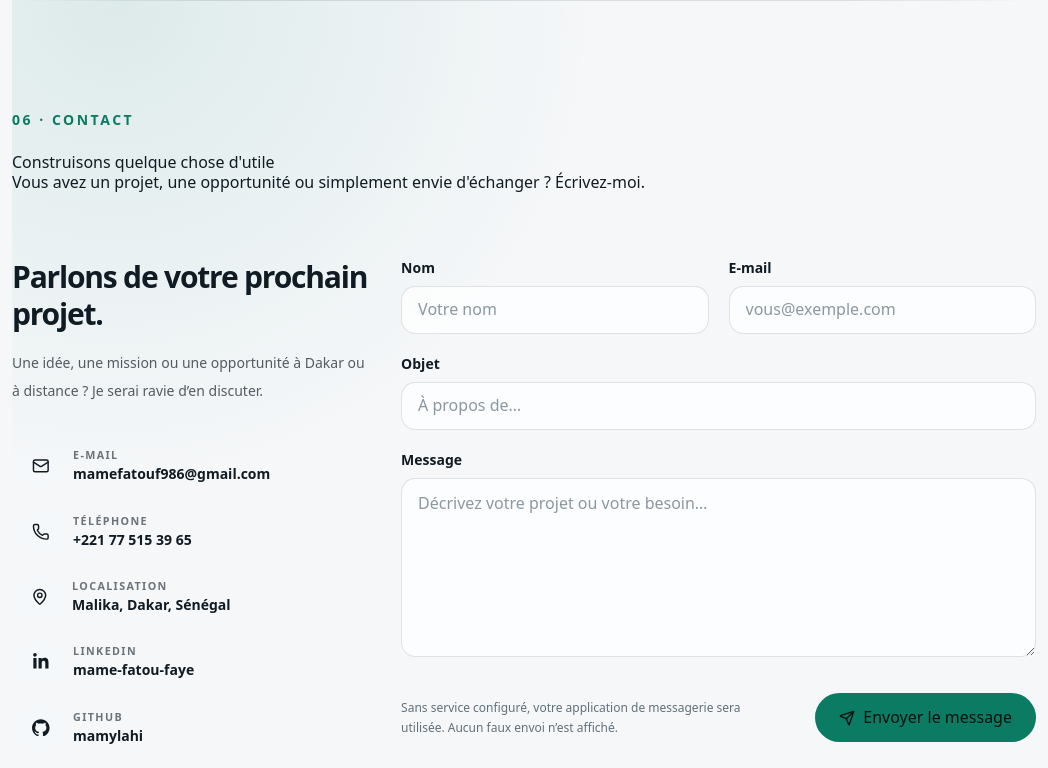
Test: formulaire de contact › affiche les messages de validation français et les relie aux champs
Click the button "Envoyer le message": [926, 718] box [815,693,1036,742]
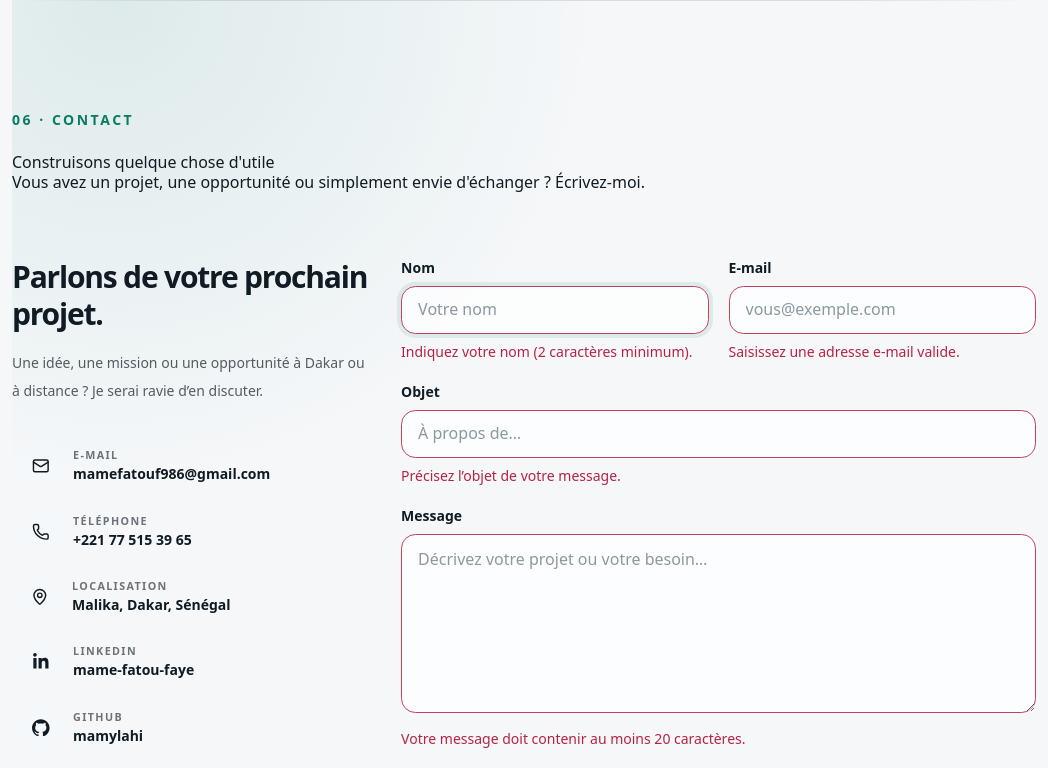
expect the text "Saisissez une adresse e-mail valide." is shown: met, box [728,342,960,361]
expect the text "Précisez l’objet de votre message." is shown: met, box [401,466,621,485]
expect the text "Votre message doit contenir au moins 20 caractères." is shown: met, box [401,729,746,748]
